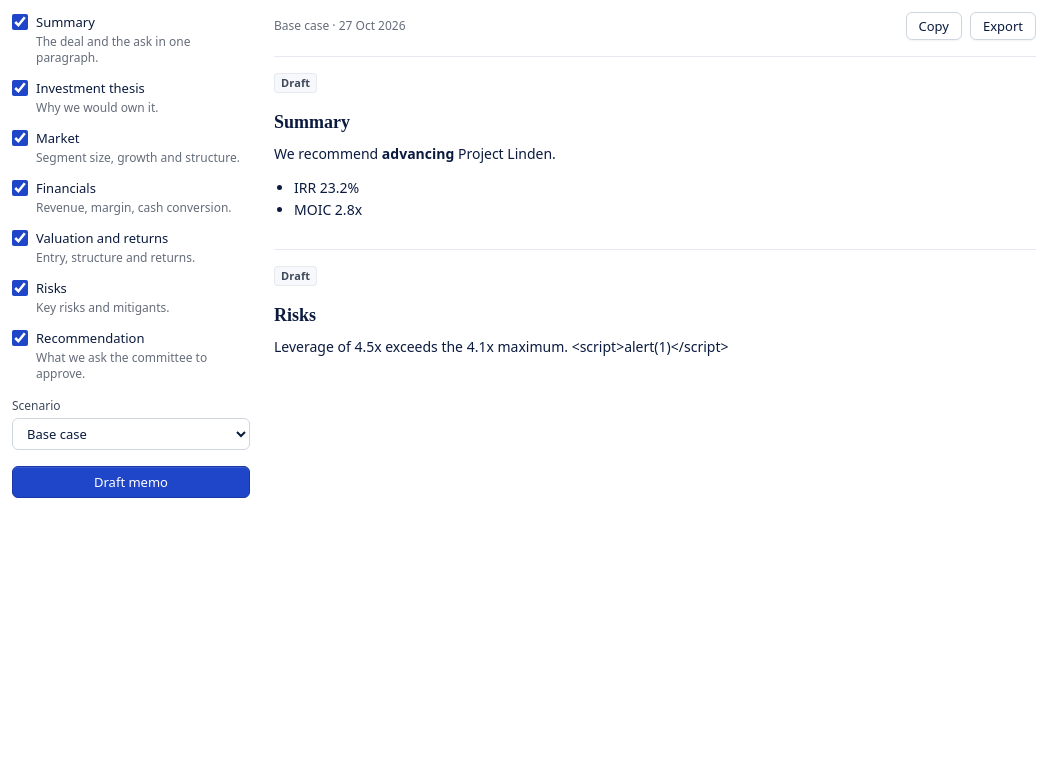
Test: IC memo › drafts a memo for the chosen sections and scenario
expect the checkbox labelled "Summary" is checked: met, box [12,14,28,30]
expect the checkbox labelled "Investment thesis" is checked: met, box [12,80,28,96]
Click the checkbox labelled "Market" at x=20, y=138, box [12,130,28,146]
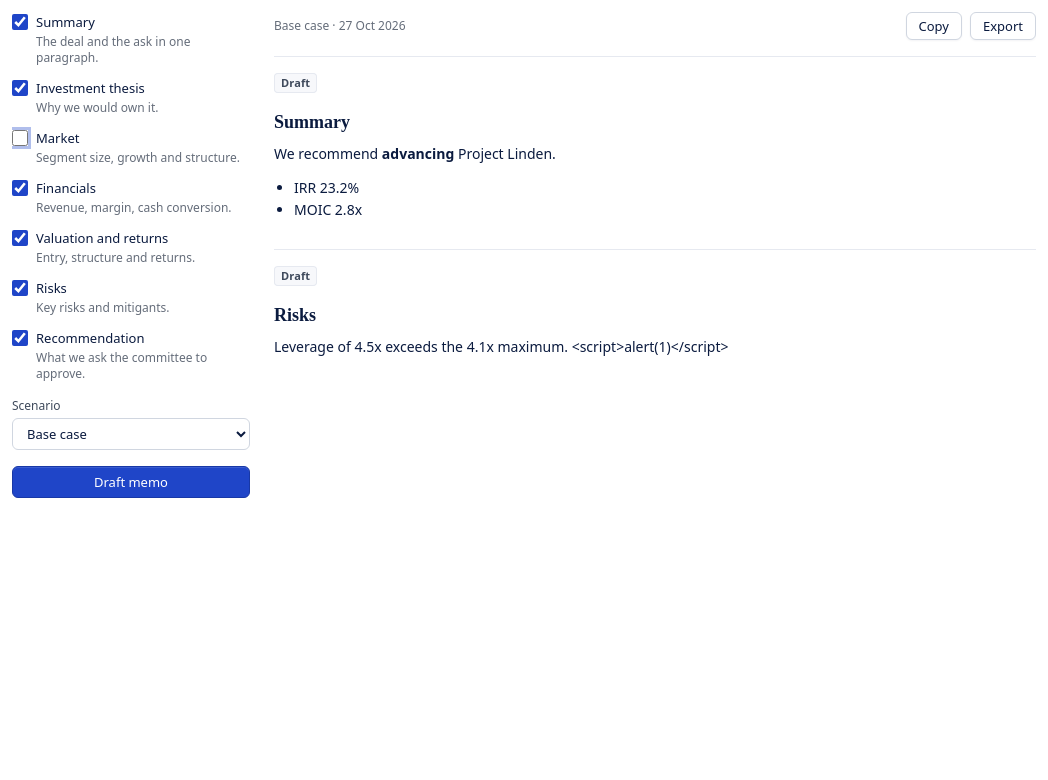
Click the checkbox labelled "Financials" at x=20, y=188, box [12,180,28,196]
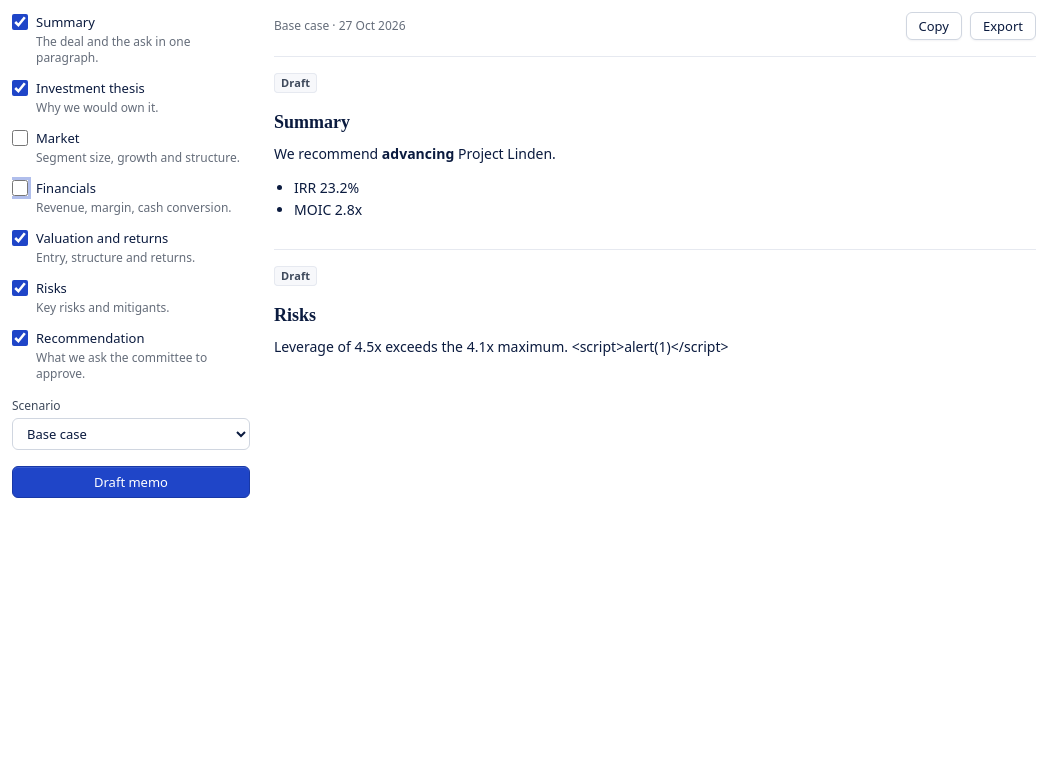
Select "Downside" in the dropdown labelled "Scenario" at x=131, y=434, box [12,418,250,450]
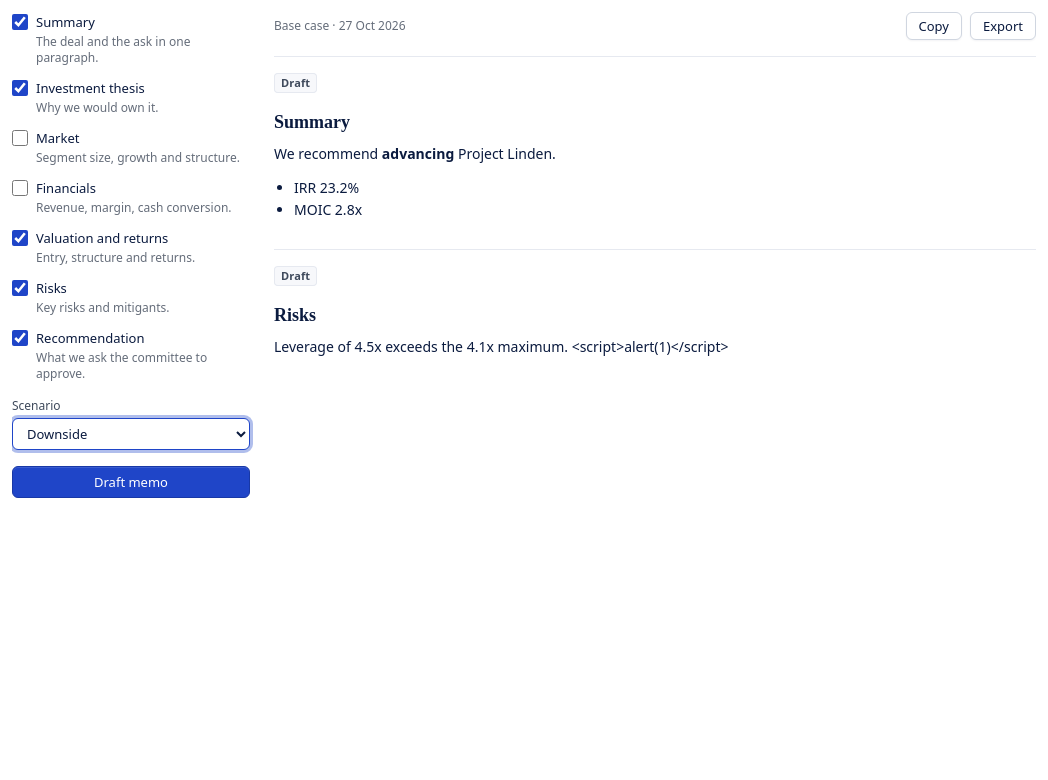
Click the button "Draft memo" at x=131, y=482, box [12,466,250,498]
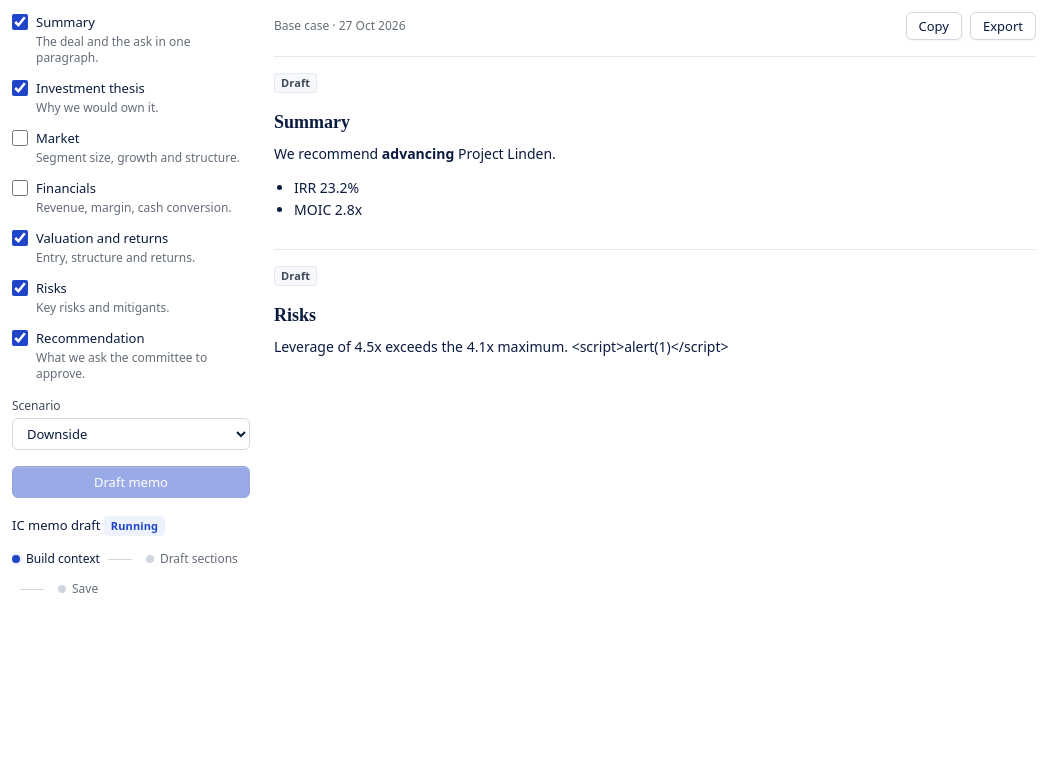
expect the element with test id "memo-progress" is shown: met, box [12,514,250,600]
